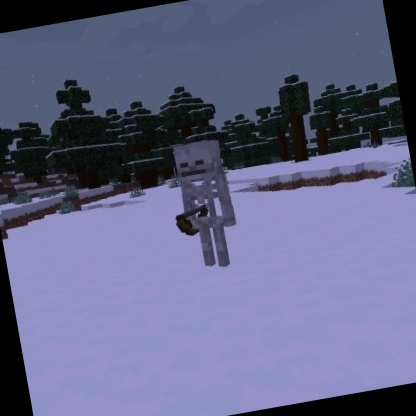skeleton: (159, 133, 248, 278)
